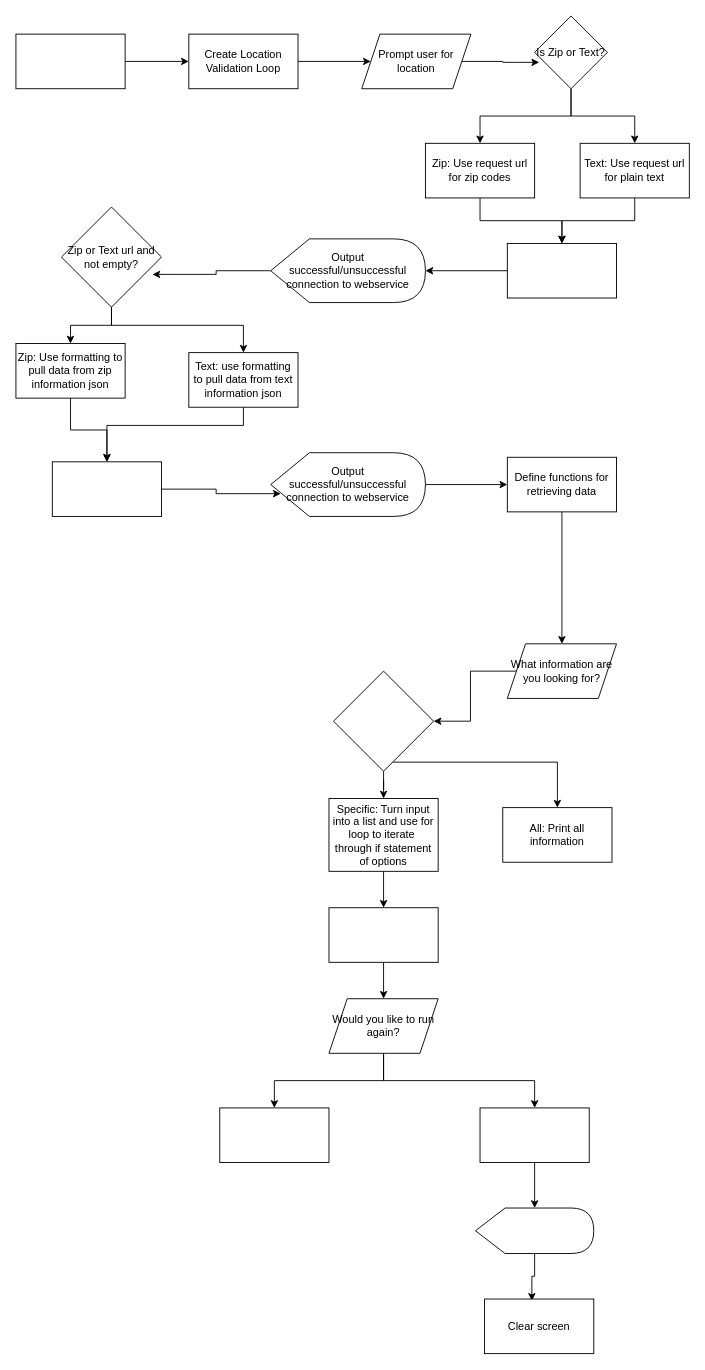
Some shapes in this 705 by 1370 pixel diagram are drawn without their labels. The centre of each missing label's shape, as x and y in pixels:
"All information or specific information?" goes at point (383, 720).
"Create Main Loop" goes at point (70, 61).
"Get Location data" goes at point (561, 270).
"Get Weather Data" goes at point (106, 488).
"Goodbye" goes at point (534, 1230).
"If no matching option for list index output, that information was not available" goes at point (383, 934).
"No: Main loop variable set to false" goes at point (534, 1135).
"Yes: Main Loop variable set to true, clear screen" goes at point (274, 1135).
